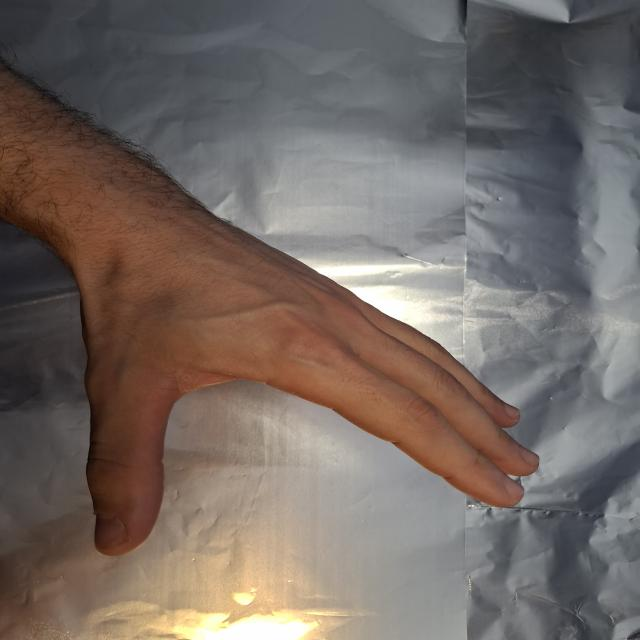glove_off: (62, 206, 546, 559)
